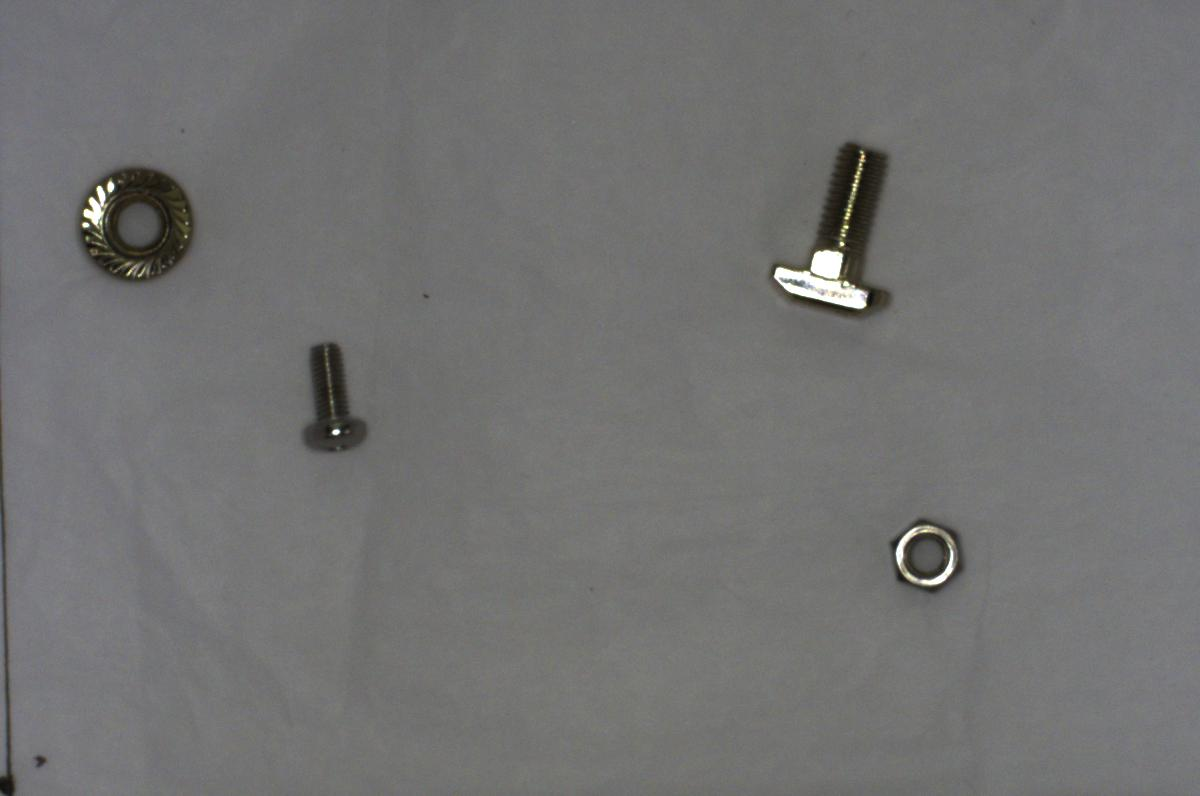Flange nut: (72, 158, 198, 283)
Hexagon nut: (866, 507, 970, 598)
Round head screw: (294, 332, 375, 454)
T-shaped screw: (747, 129, 907, 325)
